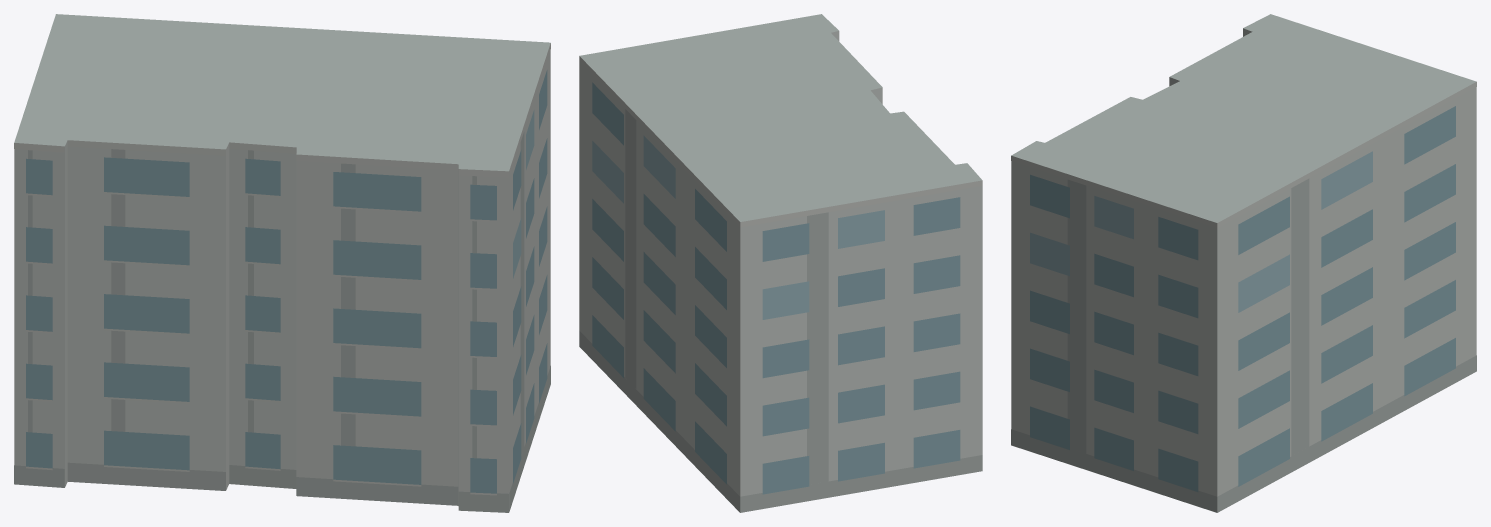
Rendered from survey-upis-32916851.glb.
The picture shows the model from 3 angles, left to right: view 1: azimuth 30°, elevation 25°; view 2: azimuth 150°, elevation 25°; view 3: azimuth 270°, elevation 25°; orthographic projection. The views are drawn at different scales.
Visible parts, largest first — view 1: survey-upis-32916851.tmp; view 2: survey-upis-32916851.tmp; view 3: survey-upis-32916851.tmp.
Boxes of the visible parts, bbox=[...] form: survey-upis-32916851.tmp: bbox=[14, 14, 550, 512]; survey-upis-32916851.tmp: bbox=[579, 14, 982, 512]; survey-upis-32916851.tmp: bbox=[1011, 14, 1476, 512].
Size of the model in its own units: 20.28 by 13.1 by 19.08.
